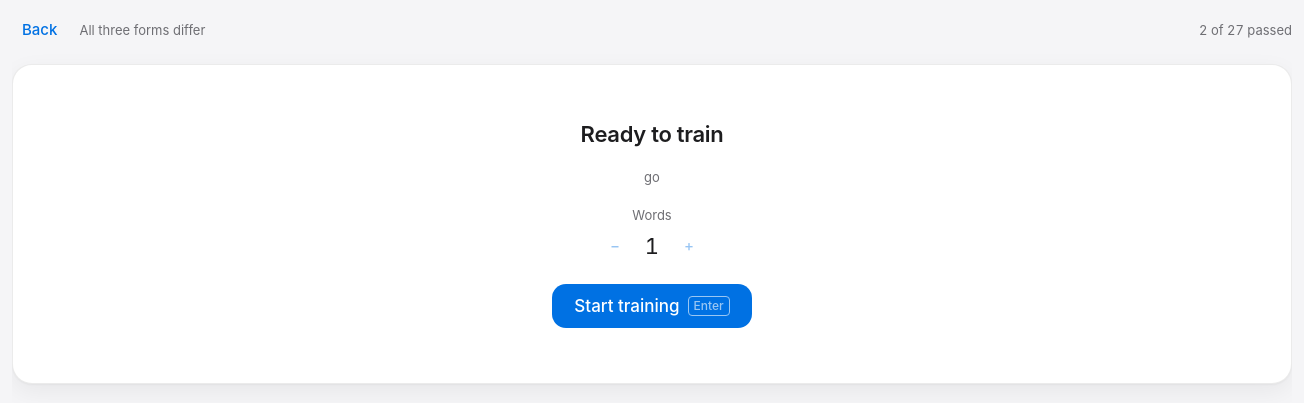
Scenario: VerbDrillScreen › reports the words it finished and offers the next ones
The width and height of the screenshot is (1304, 403).
Click the button with class "start-train" at (652, 306), box [552, 284, 752, 328]
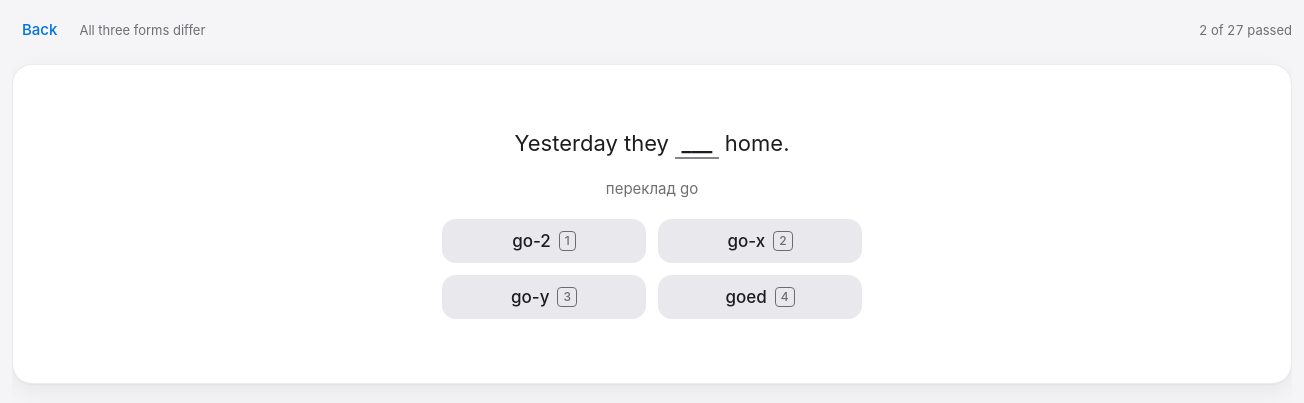
Click the button with class "drill-option" showing "go-2 1" at (544, 241), box [442, 219, 646, 263]
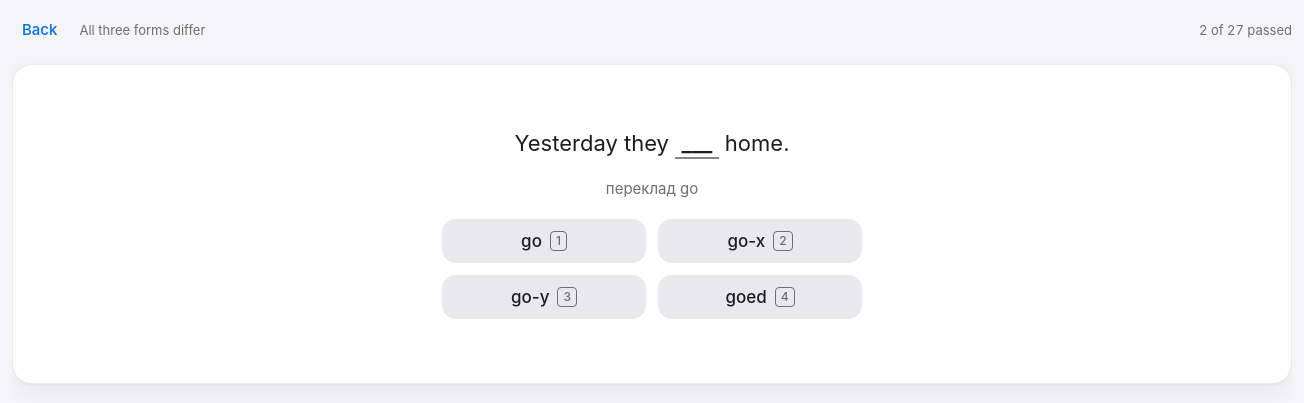
Click the button with class "drill-option" showing "go 1" at (544, 241), box [442, 219, 646, 263]
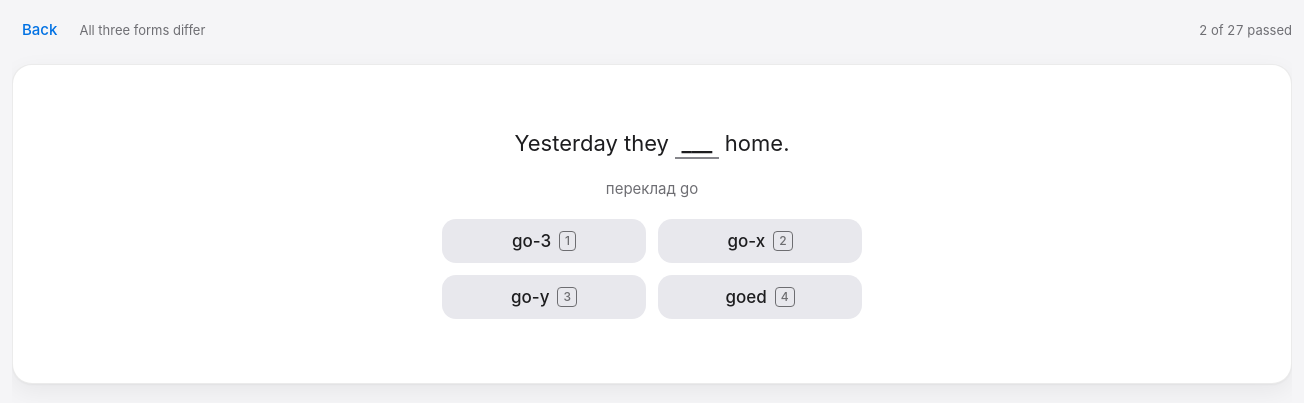
Click the button with class "drill-option" showing "go-3 1" at (544, 241), box [442, 219, 646, 263]
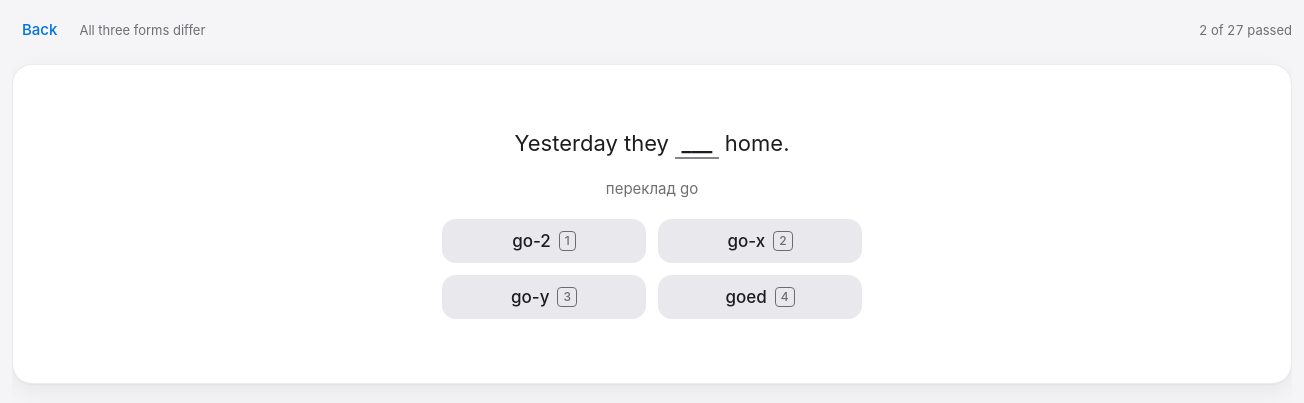
Click the button with class "drill-option" showing "go-2 1" at (544, 241), box [442, 219, 646, 263]
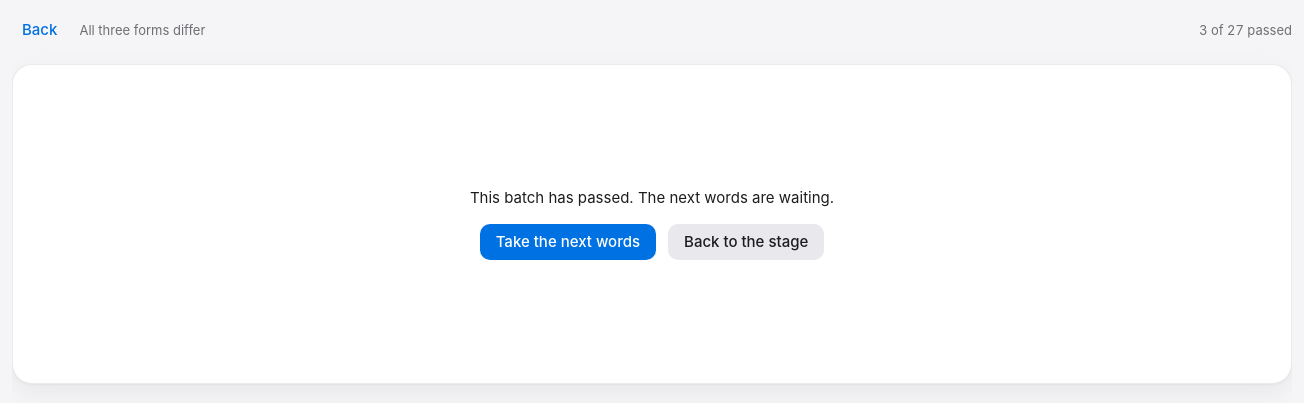
Check: the text "has passed" is shown, box [470, 188, 834, 207]
Check: the button with class "drill-next-words" is shown, box [480, 224, 656, 260]
